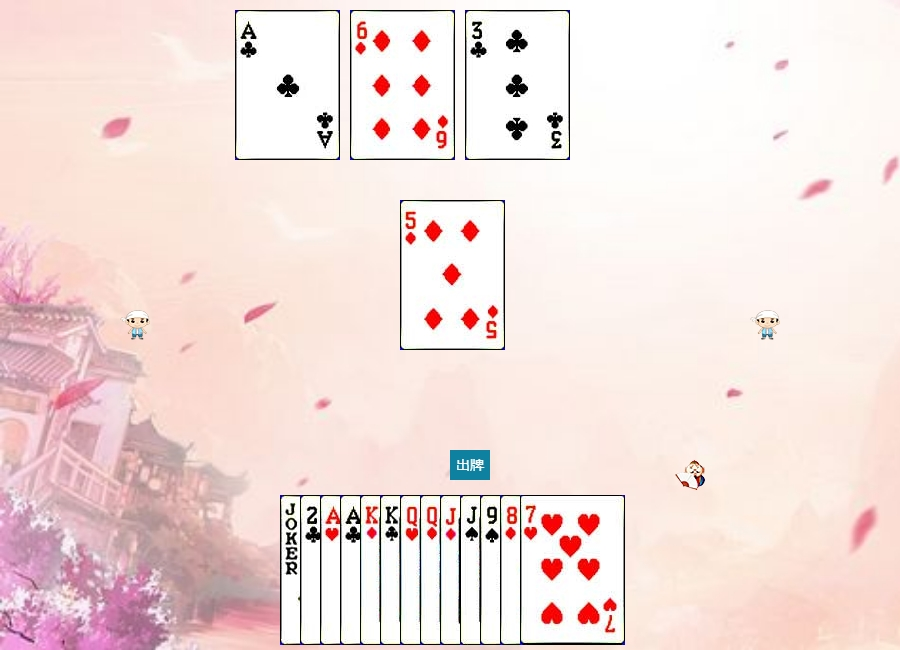11~1: (440, 495, 545, 645)
11~4: (460, 495, 565, 645)
12~1: (420, 495, 525, 645)
12~3: (400, 495, 505, 645)
13~1: (360, 495, 465, 645)
13~2: (380, 495, 485, 645)
14~2: (235, 10, 340, 160), (340, 495, 445, 645)
14~3: (320, 495, 425, 645)
15~2: (300, 495, 405, 645)
17~3: (280, 495, 385, 645)
3~2: (465, 10, 570, 160)
5~1: (400, 200, 505, 350)
6~1: (350, 10, 455, 160)
7~3: (520, 495, 625, 645)
8~1: (500, 495, 605, 645)
9~4: (480, 495, 585, 645)
